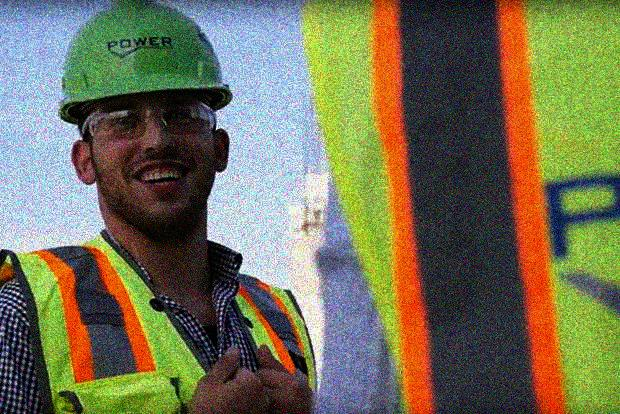helmet: (52, 1, 237, 226)
